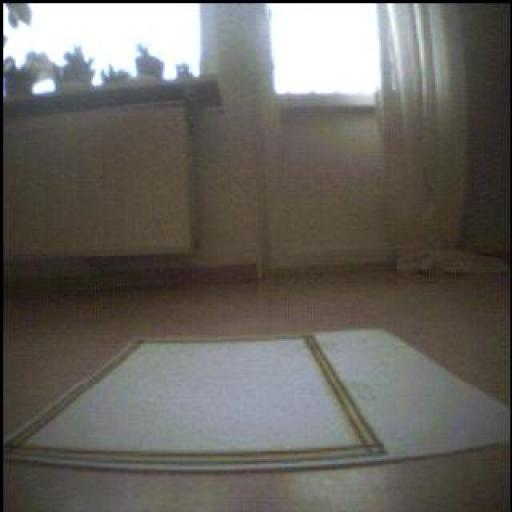Pad: (6, 331, 511, 472)
